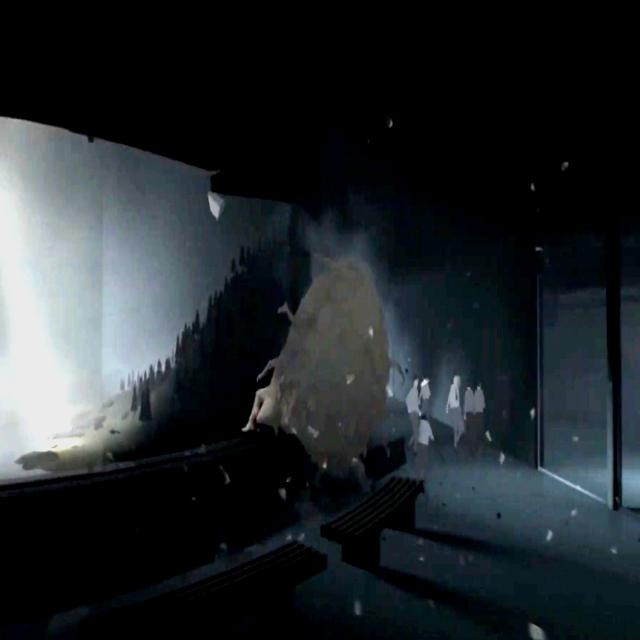blob: (242, 255, 408, 481)
human: (446, 376, 463, 450), (416, 414, 434, 479), (407, 378, 419, 454), (475, 377, 485, 450), (464, 379, 474, 450), (421, 376, 430, 419)
